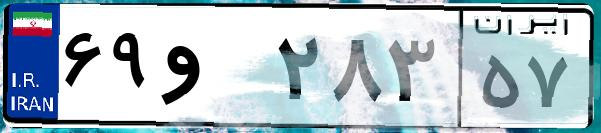2: (270, 28, 330, 110)
3: (385, 28, 445, 110)
5: (475, 38, 525, 113)
6: (57, 26, 110, 100)
7: (525, 38, 570, 115)
8: (330, 28, 385, 110)
9: (110, 28, 158, 98)
و: (158, 20, 270, 120)
